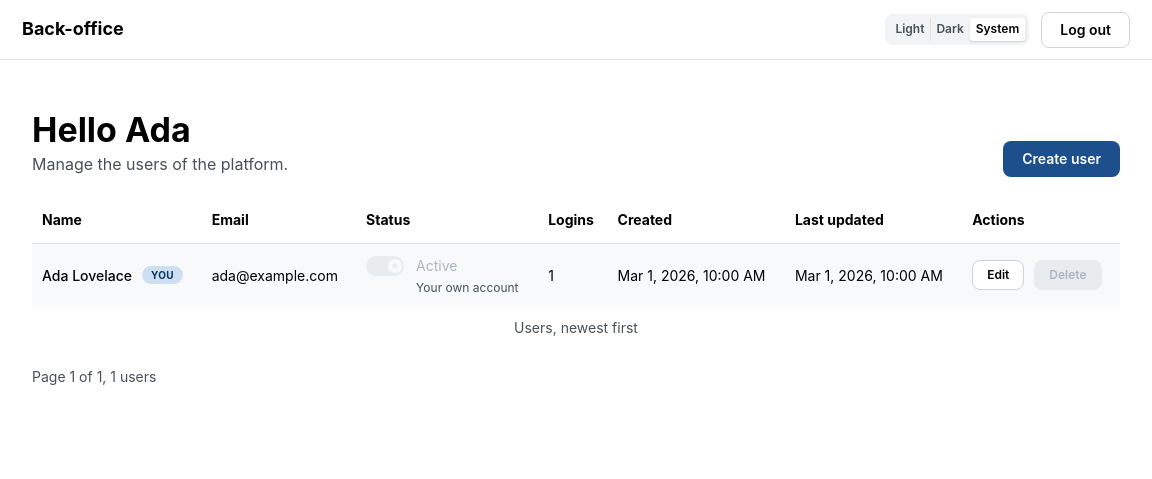
Test: session flow › UI-AUTH-11 logs out and returns to sign-in
The width and height of the screenshot is (1152, 479).
Expected: the heading "Hello Ada" is shown, [32,109,191,150]
Click the button "Log out" at point(1086, 30), box [1041,12,1130,48]
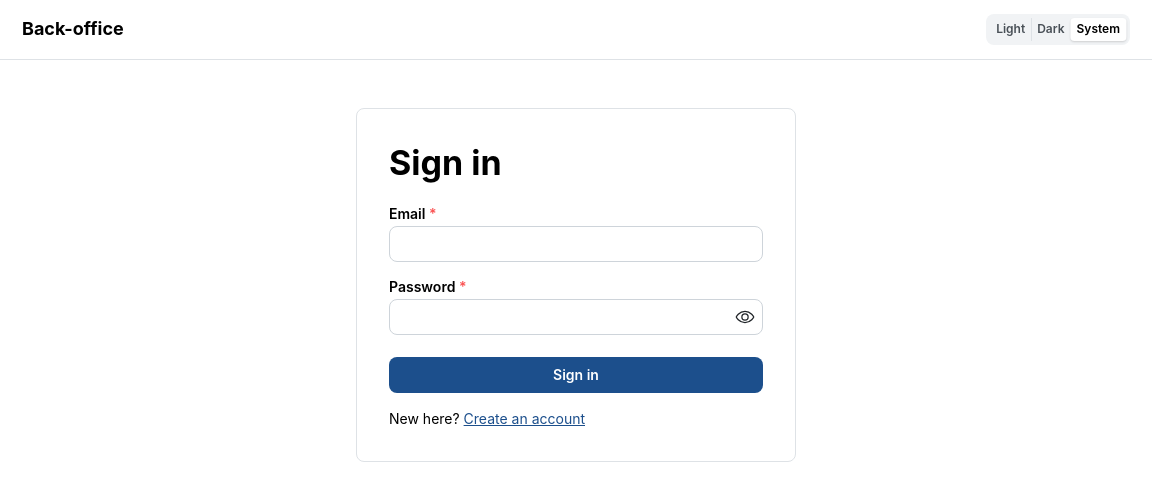
Now the heading "Sign in" is shown, box [389,142,502,183]
Now the button "Log out" is gone
